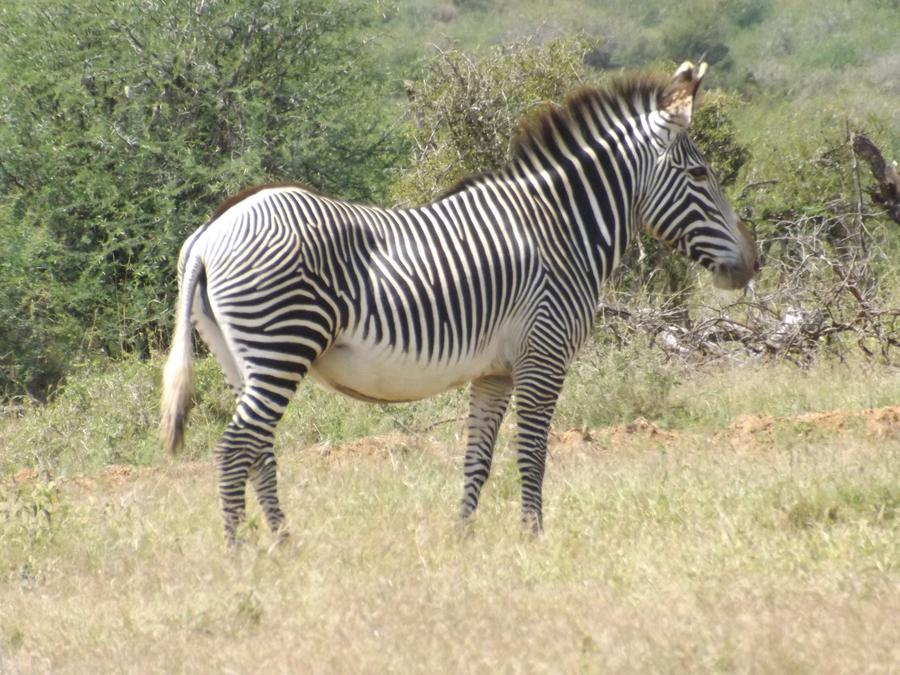zebra_grevys: (166, 170, 573, 374)
